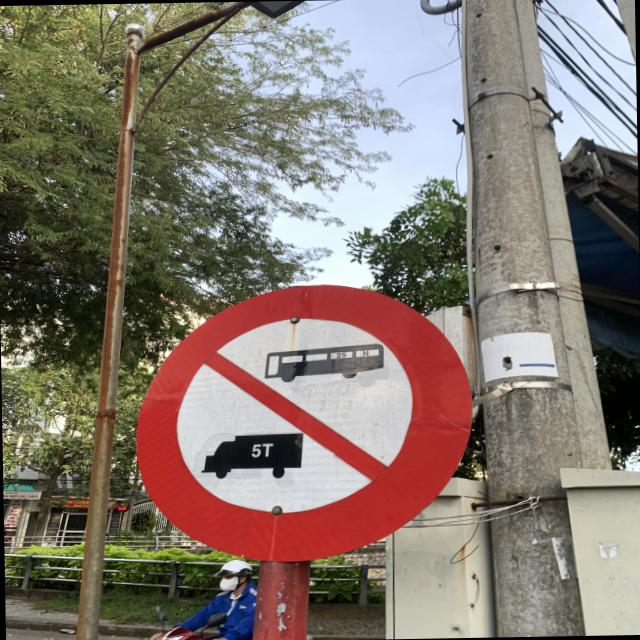Cam_XeTai_XeKhach: (130, 276, 478, 568)
